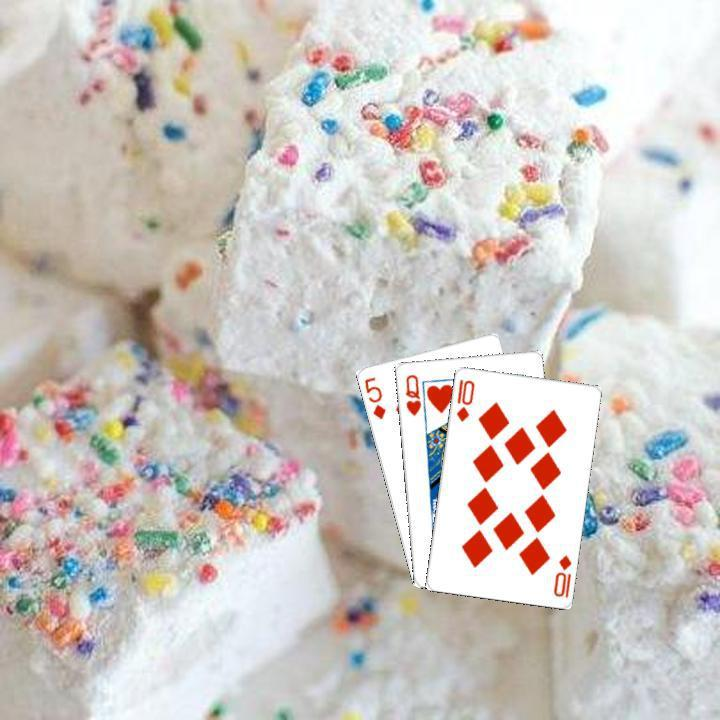10: (549, 550, 573, 600), (452, 375, 476, 423)
5: (359, 373, 387, 421)
Q: (401, 370, 423, 417)
